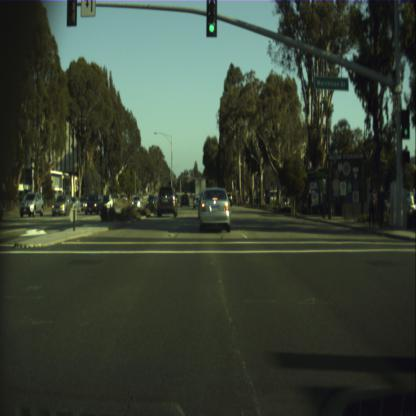Green: (206, 0, 216, 37), (400, 110, 410, 140)
Yellow: (186, 172, 188, 178)
off: (66, 0, 77, 26)
